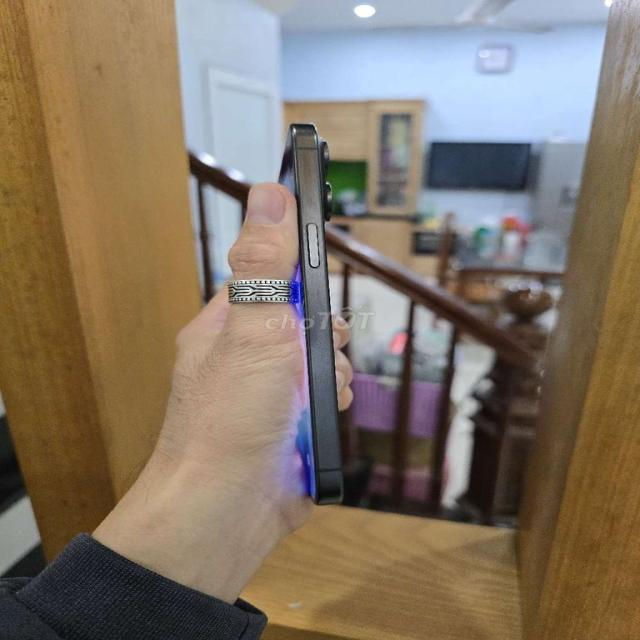gen_12_13: (265, 119, 357, 507)
